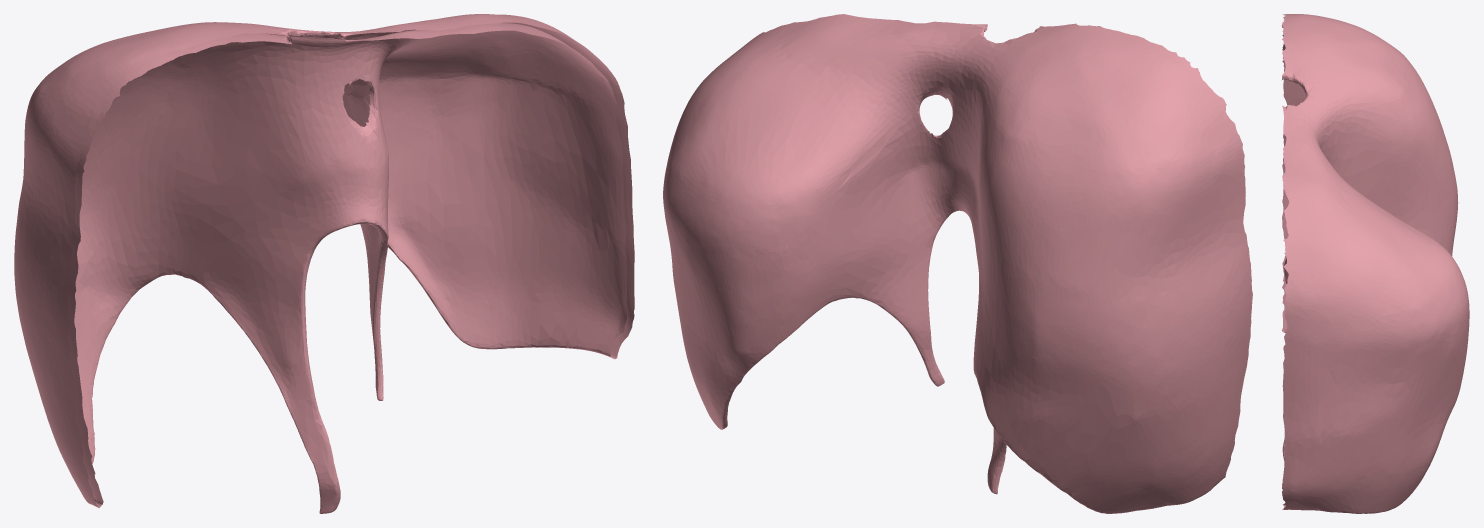
The model's file is diaframma_interno.glb.
3 renders of one model, left to right at view 1: azimuth 30°, elevation 25°; view 2: azimuth 150°, elevation 25°; view 3: azimuth 270°, elevation 25°, orthographic. The views are drawn at different scales.
Parts seen in each view (by area): view 1: diaphragm; view 2: diaphragm; view 3: diaphragm.
Boxes of the visible parts, left/top/right/bottom form: diaphragm: left=14, top=14, right=634, bottom=513; diaphragm: left=663, top=14, right=1252, bottom=513; diaphragm: left=1281, top=14, right=1469, bottom=513.
Size of the model in its own units: 243 by 207 by 89.4.
